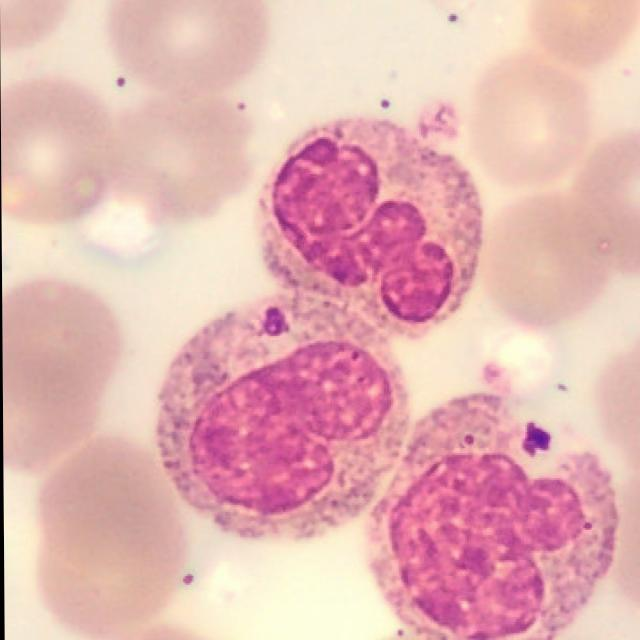Bastonete: (259, 121, 482, 338)
Metamielocito: (154, 293, 408, 542), (366, 396, 616, 640)
